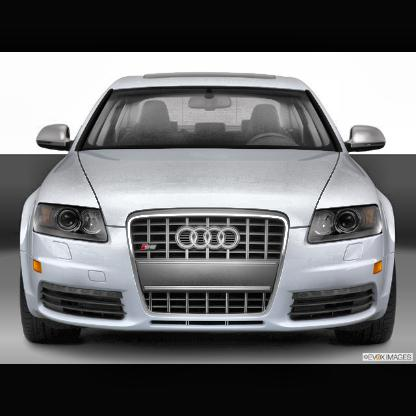Audi S6 Sedan 2011: (21, 73, 398, 347)
